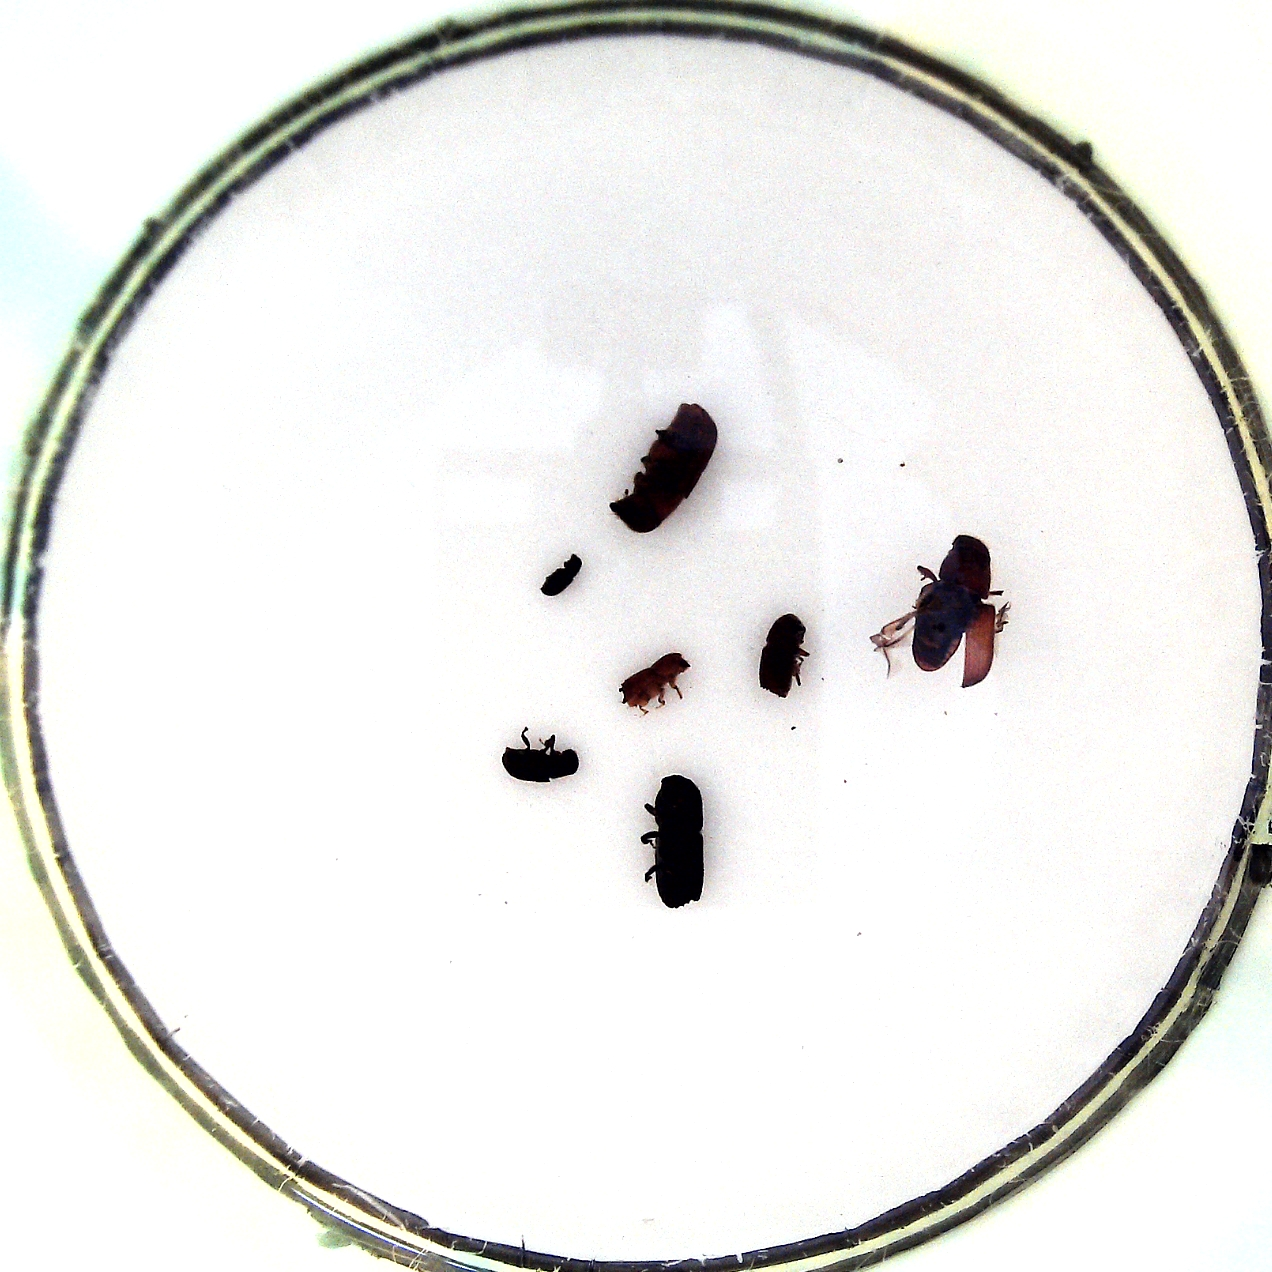Boerner: (633, 773, 713, 913)
Leconte: (862, 521, 1018, 693), (608, 401, 721, 538)
Linnaeus: (752, 606, 813, 700)
acuminatus: (613, 649, 690, 718)
armandi: (495, 728, 585, 790)
coleoptera: (533, 547, 591, 603)
